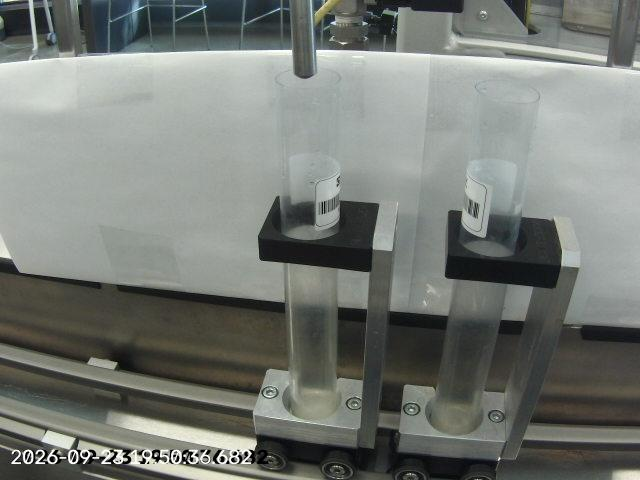vial: (259, 62, 374, 434), (443, 60, 551, 439)
